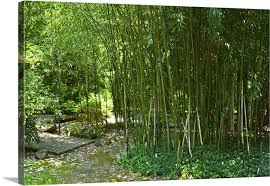bamboo: (110, 6, 266, 154), (77, 1, 115, 131)
